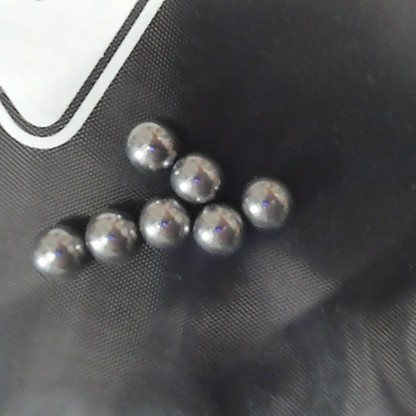ironball: (30, 224, 84, 281), (84, 210, 139, 263), (193, 203, 243, 256), (241, 177, 288, 229), (139, 197, 187, 247), (125, 121, 174, 169), (170, 155, 220, 201)
